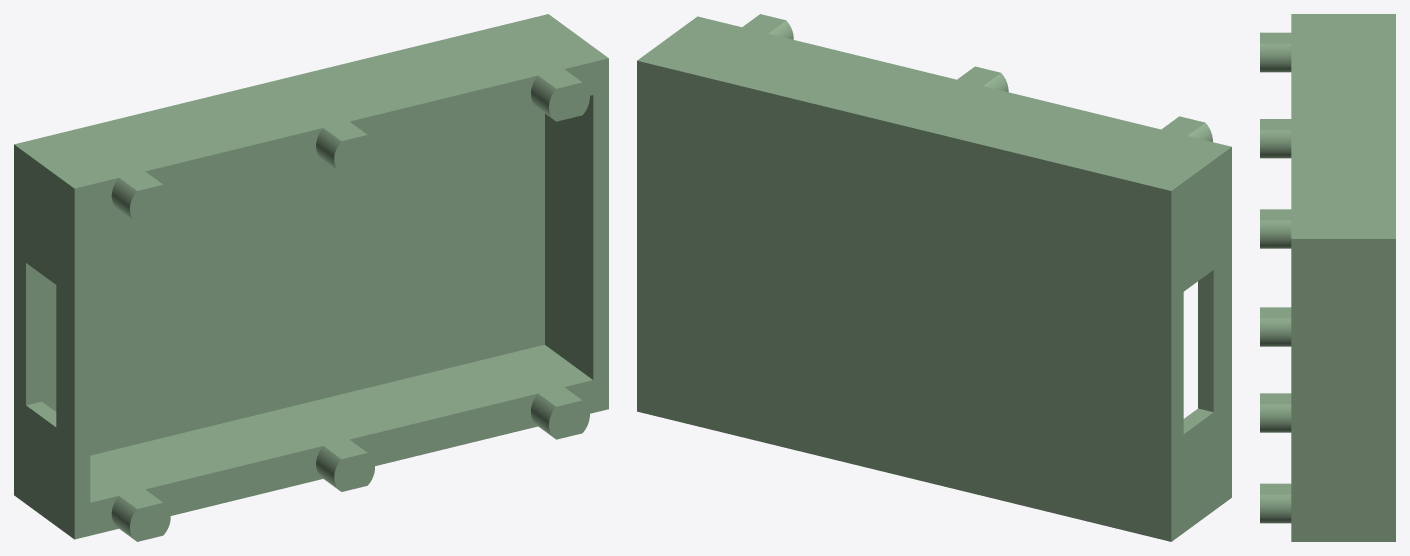
File: bottom.obj
3 renders of one model, left to right at view 1: azimuth 30°, elevation 25°; view 2: azimuth 150°, elevation 25°; view 3: azimuth 270°, elevation 25°, orthographic. The views are drawn at different scales.
Parts seen in each view (by area): view 1: Thumb-4.0_bottom\Solid; view 2: Thumb-4.0_bottom\Solid; view 3: Thumb-4.0_bottom\Solid.
Boxes of the visible parts, x1=… form: Thumb-4.0_bottom\Solid: x1=14, y1=14, x2=608, y2=541; Thumb-4.0_bottom\Solid: x1=637, y1=14, x2=1231, y2=541; Thumb-4.0_bottom\Solid: x1=1260, y1=14, x2=1395, y2=541.
Size of the model in its own units: 51 by 32 by 13.
